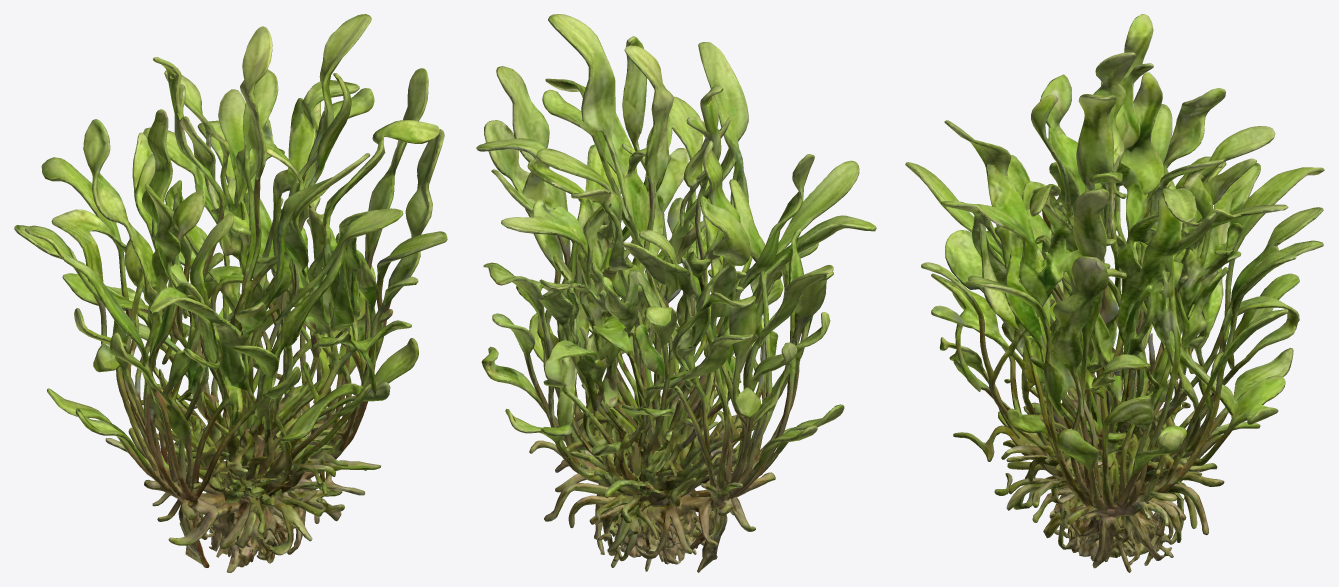
The model's file is submerged-plant-v9.glb.
3 views of the same model, side by side, from view 1: azimuth 30°, elevation 25°; view 2: azimuth 150°, elevation 25°; view 3: azimuth 270°, elevation 25° (orthographic).
Visible parts, largest first — view 1: geometry_0; view 2: geometry_0; view 3: geometry_0.
Boxes of the visible parts, left/top/right/bottom form: geometry_0: left=14, top=14, right=447, bottom=572; geometry_0: left=476, top=14, right=876, bottom=572; geometry_0: left=905, top=14, right=1324, bottom=572.
Bounding box in the file's own units: 0.1723 × 0.2199 × 0.1637.
1 material, 1 textured.
